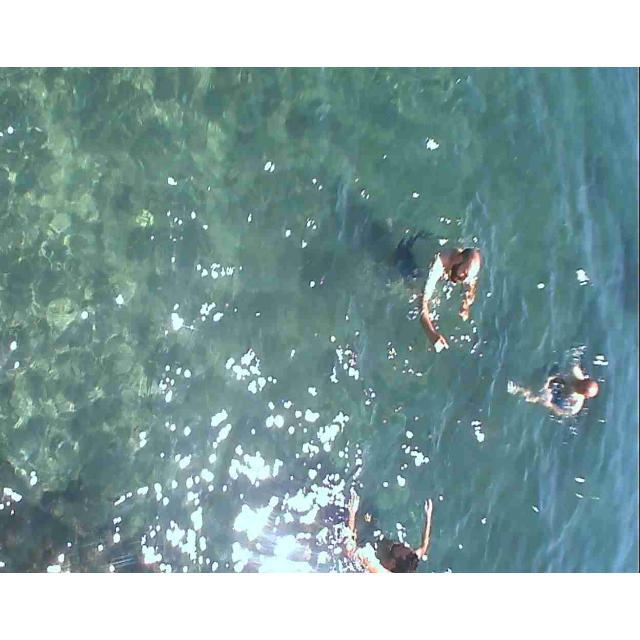human: (406, 230, 487, 343), (531, 342, 596, 423)
